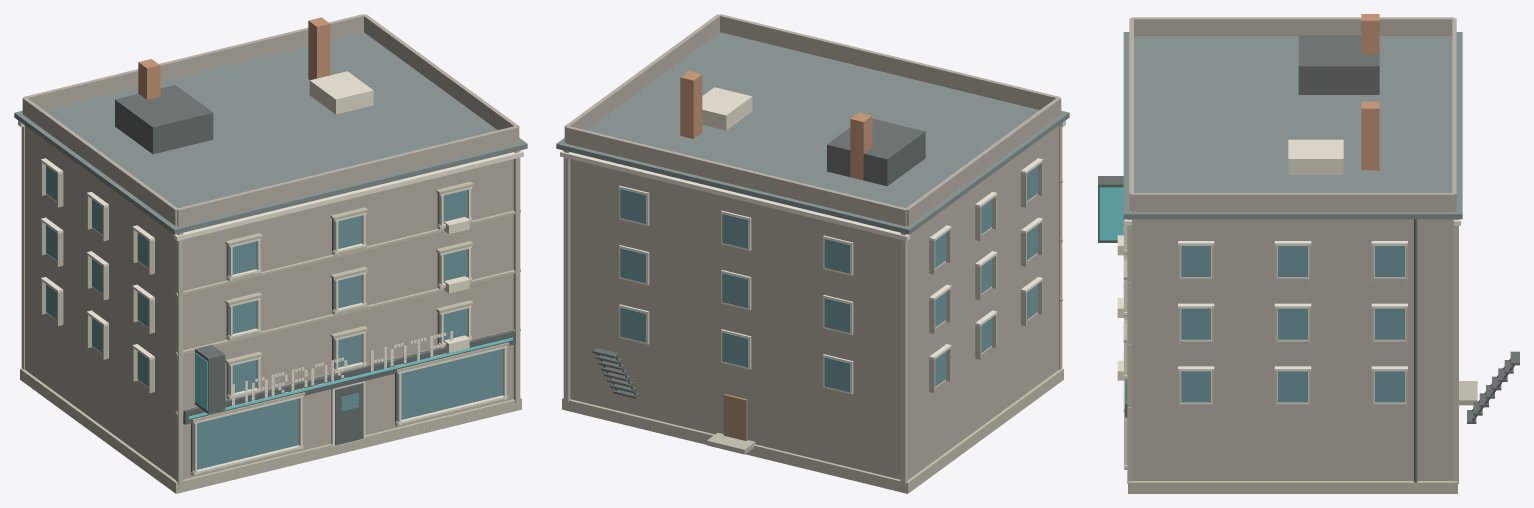
3 renders of one model, left to right at view 1: azimuth 30°, elevation 25°; view 2: azimuth 150°, elevation 25°; view 3: azimuth 270°, elevation 25°, orthographic. The views are drawn at different scales.
Size of the model in its own units: 18.7 by 16.44 by 18.3.
